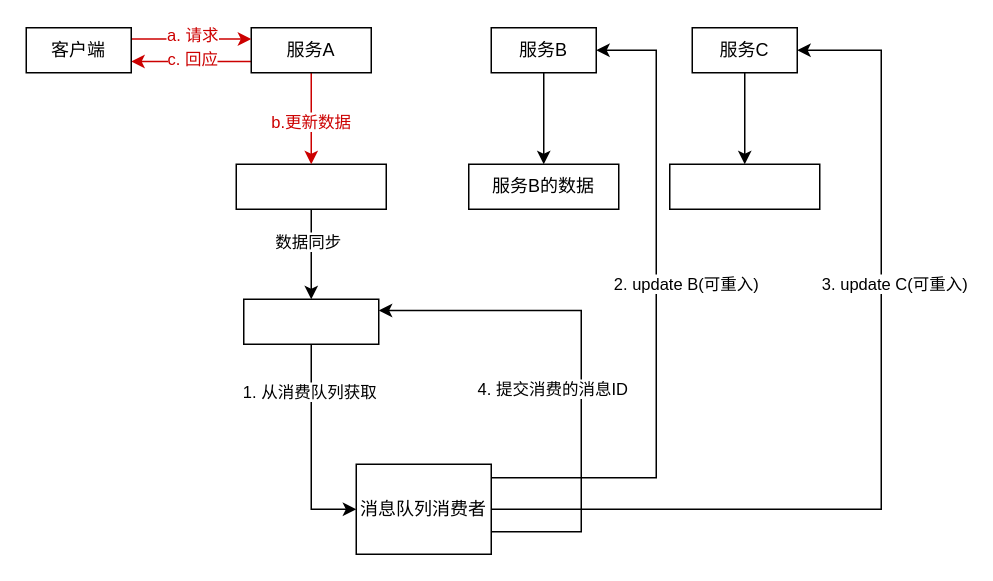
Some shapes in this 993 by 581 pixel diagram are drawn without their labels. Here are the shapes that lost their labels. From the top down, the box of each, then its label:
(235, 163, 386, 209): 服务A的数据
(668, 163, 820, 209): 服务C的数据
(242, 298, 379, 344): 消息队列
